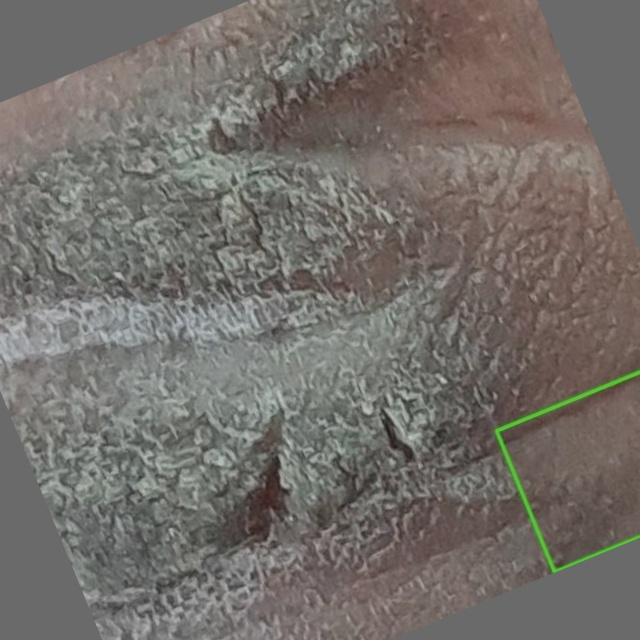Contact Dermatitis: (496, 372, 639, 571)
